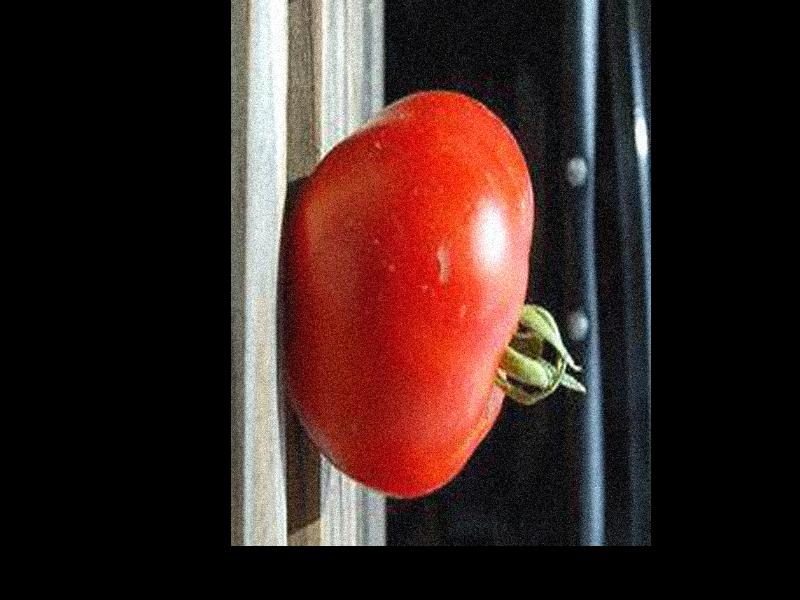Tomato: (288, 91, 583, 496)
